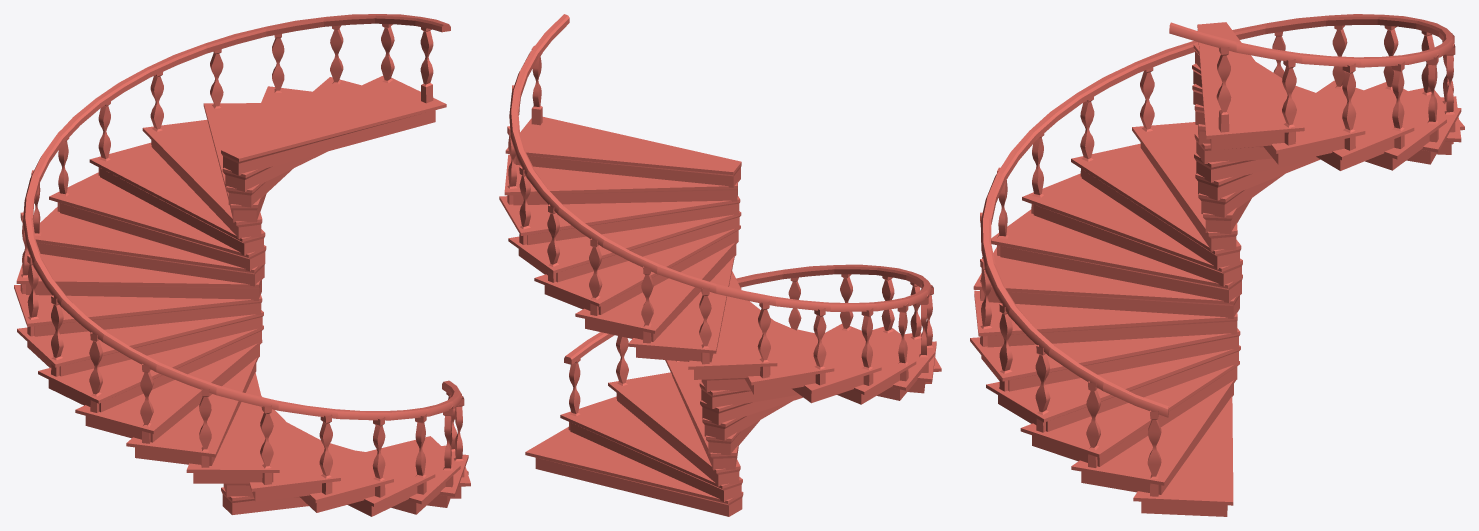
File: Treppe All.fbx
The picture shows the model from 3 angles, left to right: view 1: azimuth 30°, elevation 25°; view 2: azimuth 150°, elevation 25°; view 3: azimuth 270°, elevation 25°; orthographic projection. The views are drawn at different scales.
Parts seen in each view (by area): view 1: Cube.014, Cube.056, Cube.042, Cube.044, Cube.040, Cube.038, Cube.046, Cube.036, Cube.034, Cube.032, Cube.048, Cube.030 (+28 smaller); view 2: Cube.014, Cube.056, Cube.002, Cube.054, Cube.016, Cube.052, Cube.050, Cube.048, Cube.018, Cube.046, Cube.042, Cube.044 (+23 smaller); view 3: Cube.014, Cube.028, Cube.026, Cube.030, Cube.024, Cube.056, Cube.022, Cube.020, Cube.032, Cube.018, Cube.016, Cube.002 (+25 smaller).
Boxes of the visible parts, x1,y1,x2,y2 form: Cube.014: (23, 14, 461, 420); Cube.056: (221, 76, 446, 175); Cube.042: (35, 207, 264, 286); Cube.044: (49, 172, 266, 271); Cube.040: (16, 249, 261, 300); Cube.038: (14, 285, 262, 336); Cube.046: (89, 142, 265, 255); Cube.036: (17, 310, 263, 376); Cube.034: (38, 325, 263, 412); Cube.032: (75, 340, 262, 442); Cube.048: (142, 119, 262, 239); Cube.030: (126, 357, 258, 465); Cube.014: (509, 14, 931, 364); Cube.056: (505, 117, 741, 187); Cube.002: (525, 427, 743, 516); Cube.054: (504, 154, 737, 205); Cube.016: (560, 396, 742, 501); Cube.052: (499, 195, 740, 244); Cube.050: (508, 211, 741, 282); Cube.048: (534, 225, 740, 314); Cube.018: (608, 372, 740, 486); Cube.046: (575, 242, 737, 341); Cube.042: (688, 271, 777, 379); Cube.044: (628, 256, 734, 362); Cube.014: (980, 14, 1454, 417); Cube.028: (991, 209, 1242, 302); Cube.026: (973, 247, 1239, 318); Cube.030: (1022, 173, 1242, 286); Cube.024: (974, 290, 1237, 347); Cube.056: (1197, 22, 1304, 150); Cube.022: (970, 328, 1240, 391); Cube.020: (986, 345, 1240, 431); Cube.032: (1071, 143, 1241, 269); Cube.018: (1020, 361, 1239, 466); Cube.016: (1071, 380, 1235, 494); Cube.002: (1133, 396, 1233, 516).
Bounding box in the file's own units: 670 × 731 × 668.
